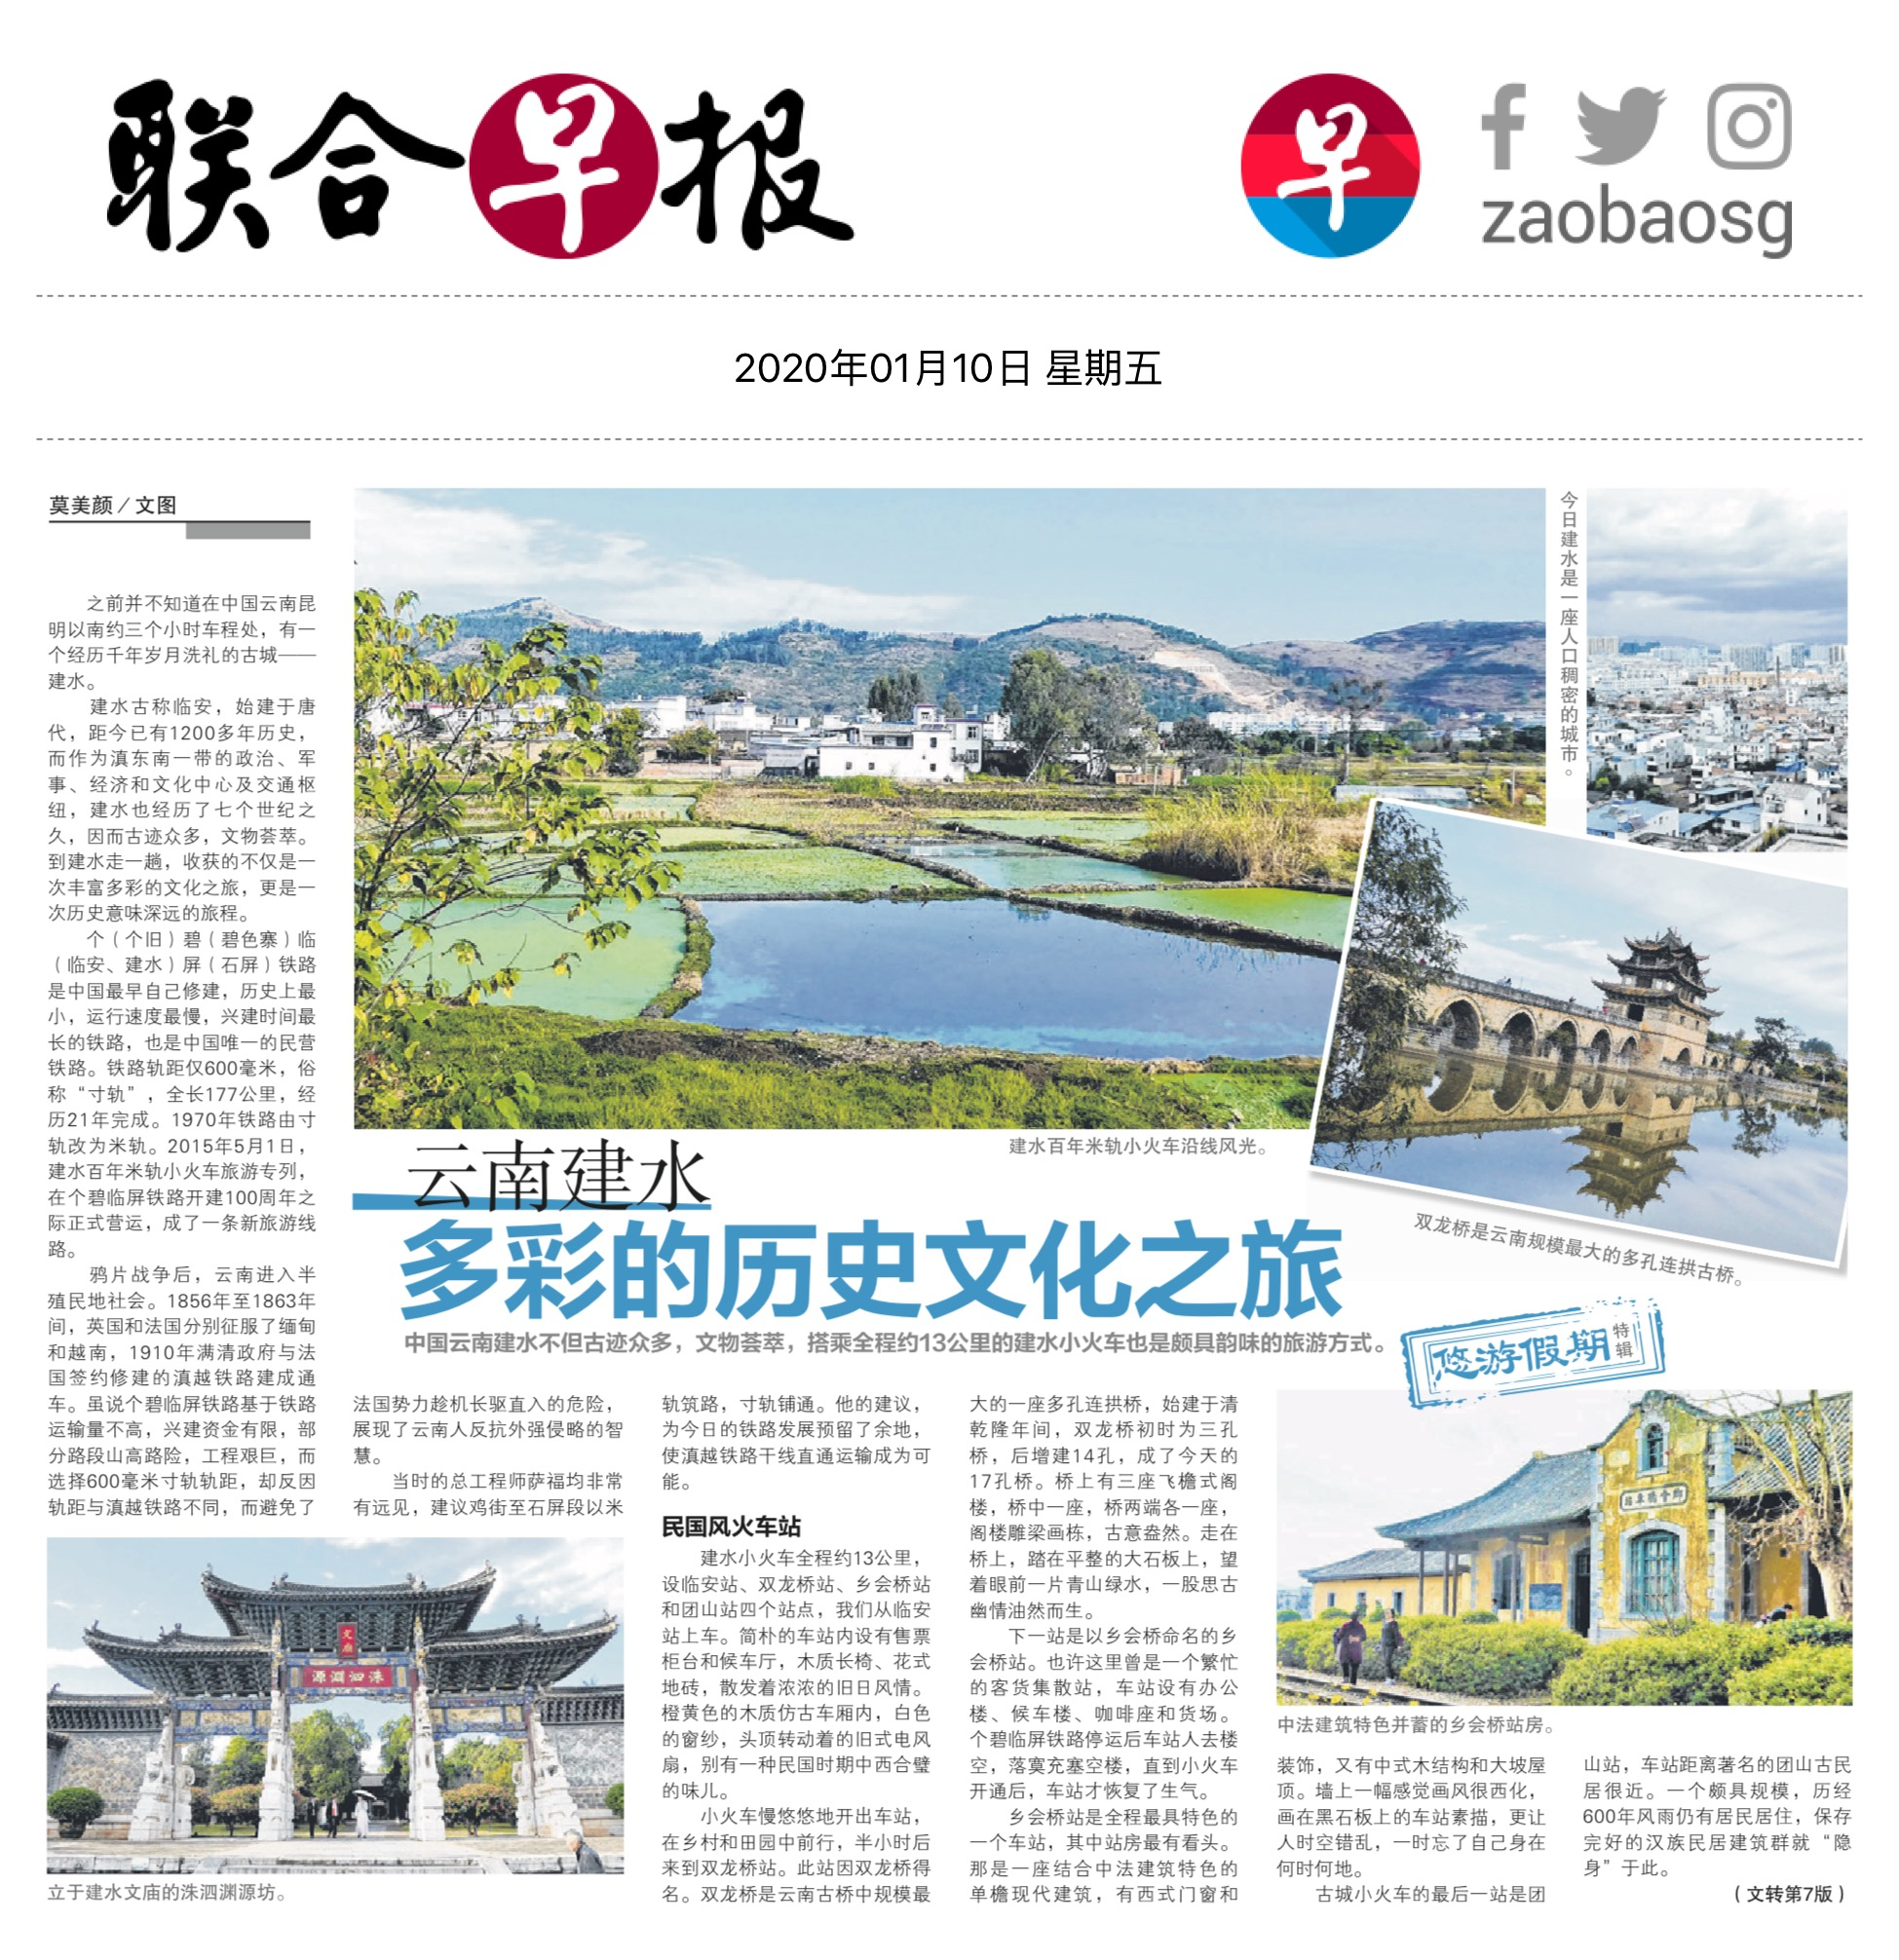heading: (394, 1206, 1358, 1325)
